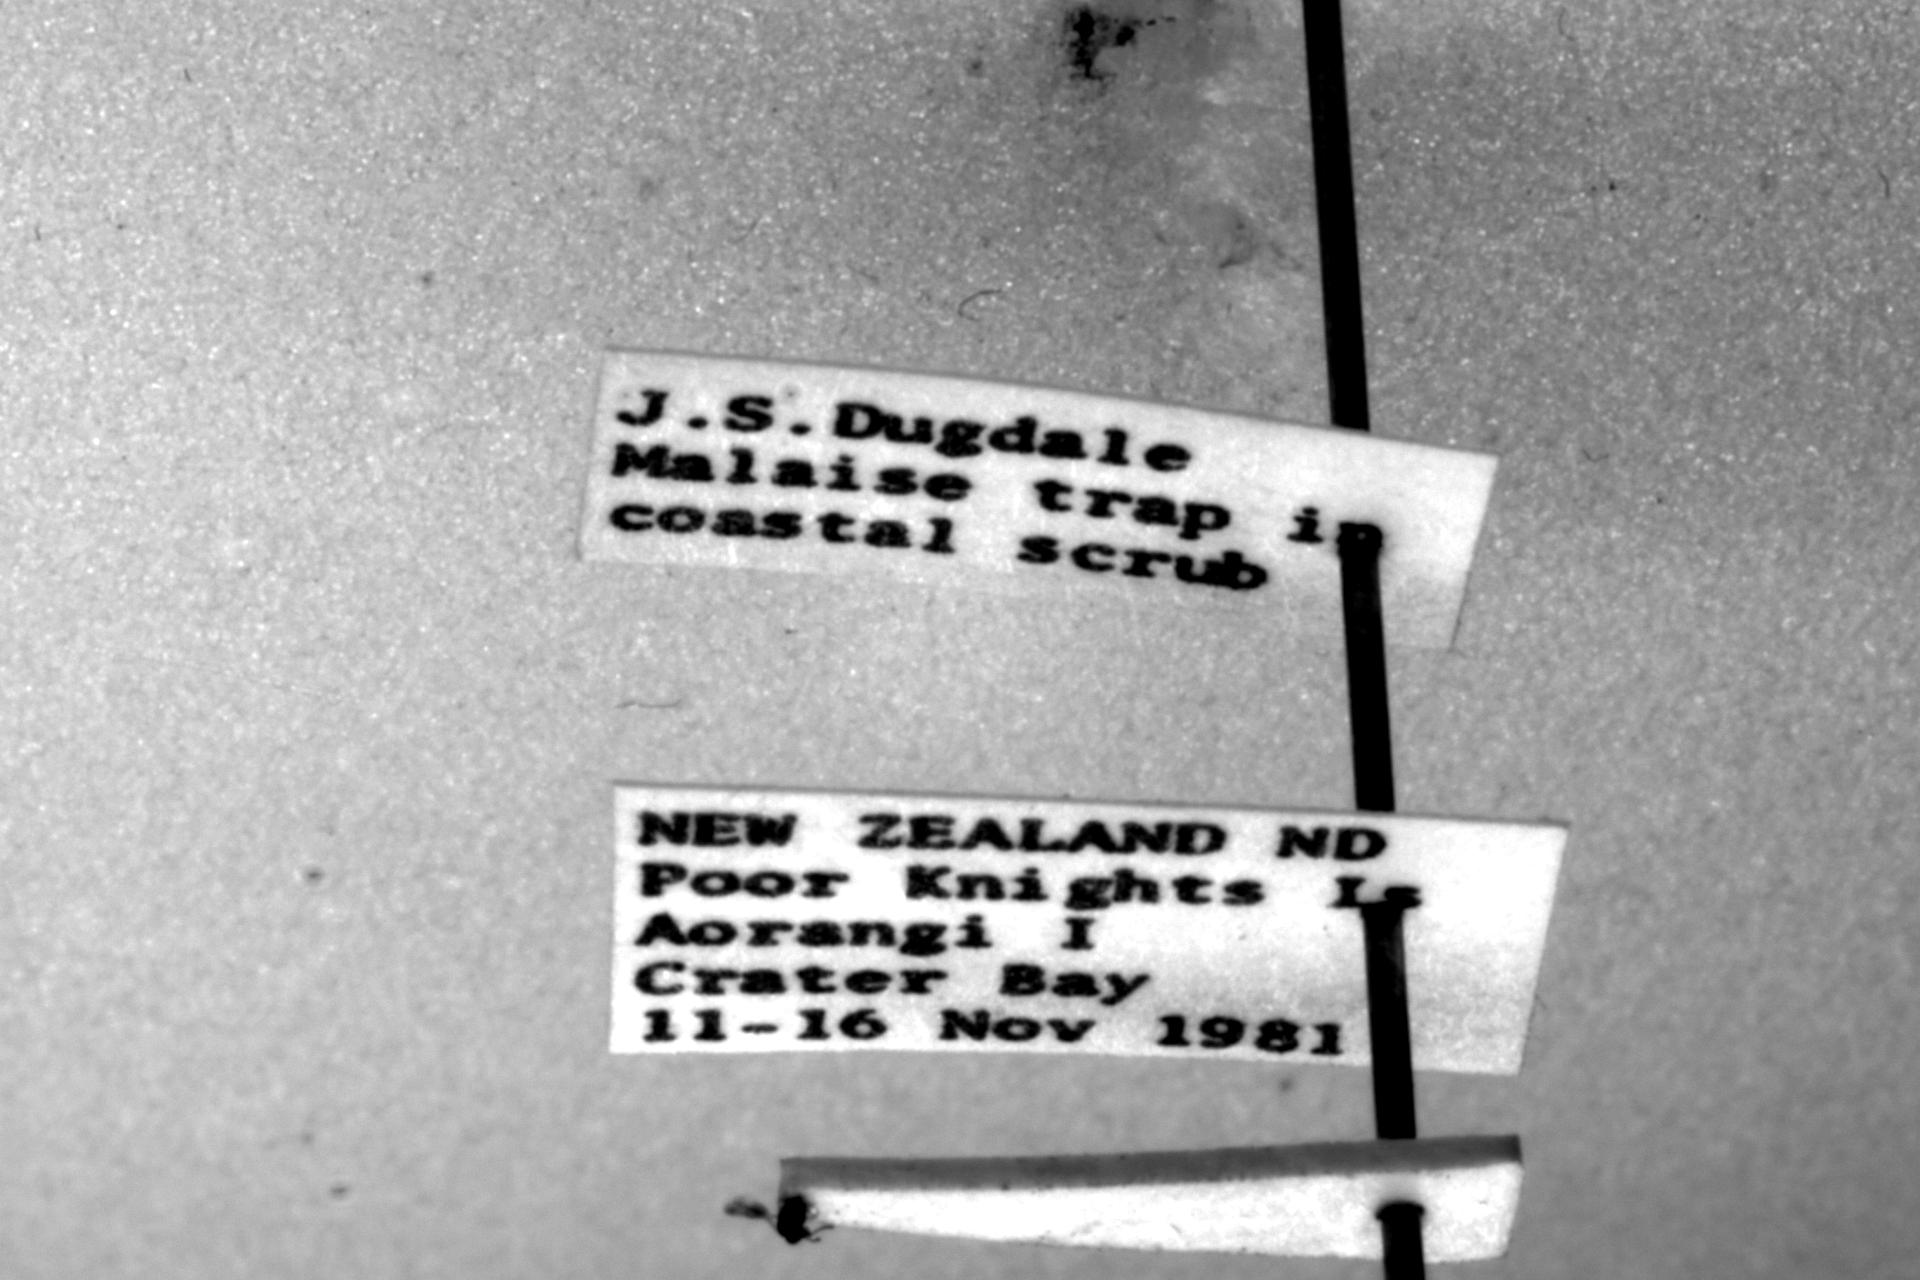typed_label: (611, 784, 1567, 1073), (581, 353, 1496, 649)
